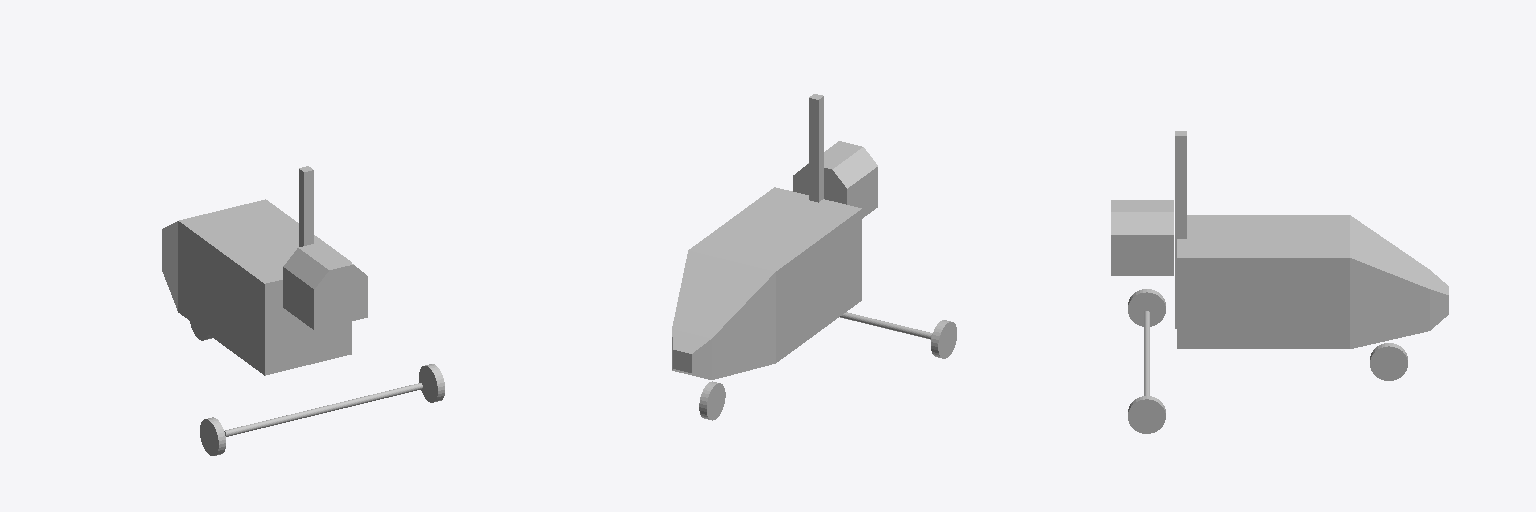
The model's file is gyro_body.obj.
3 renders of one model, left to right at view 1: azimuth 30°, elevation 25°; view 2: azimuth 150°, elevation 25°; view 3: azimuth 270°, elevation 25°, orthographic.
Size of the model in its own units: 5.16 by 5.35 by 6.67.